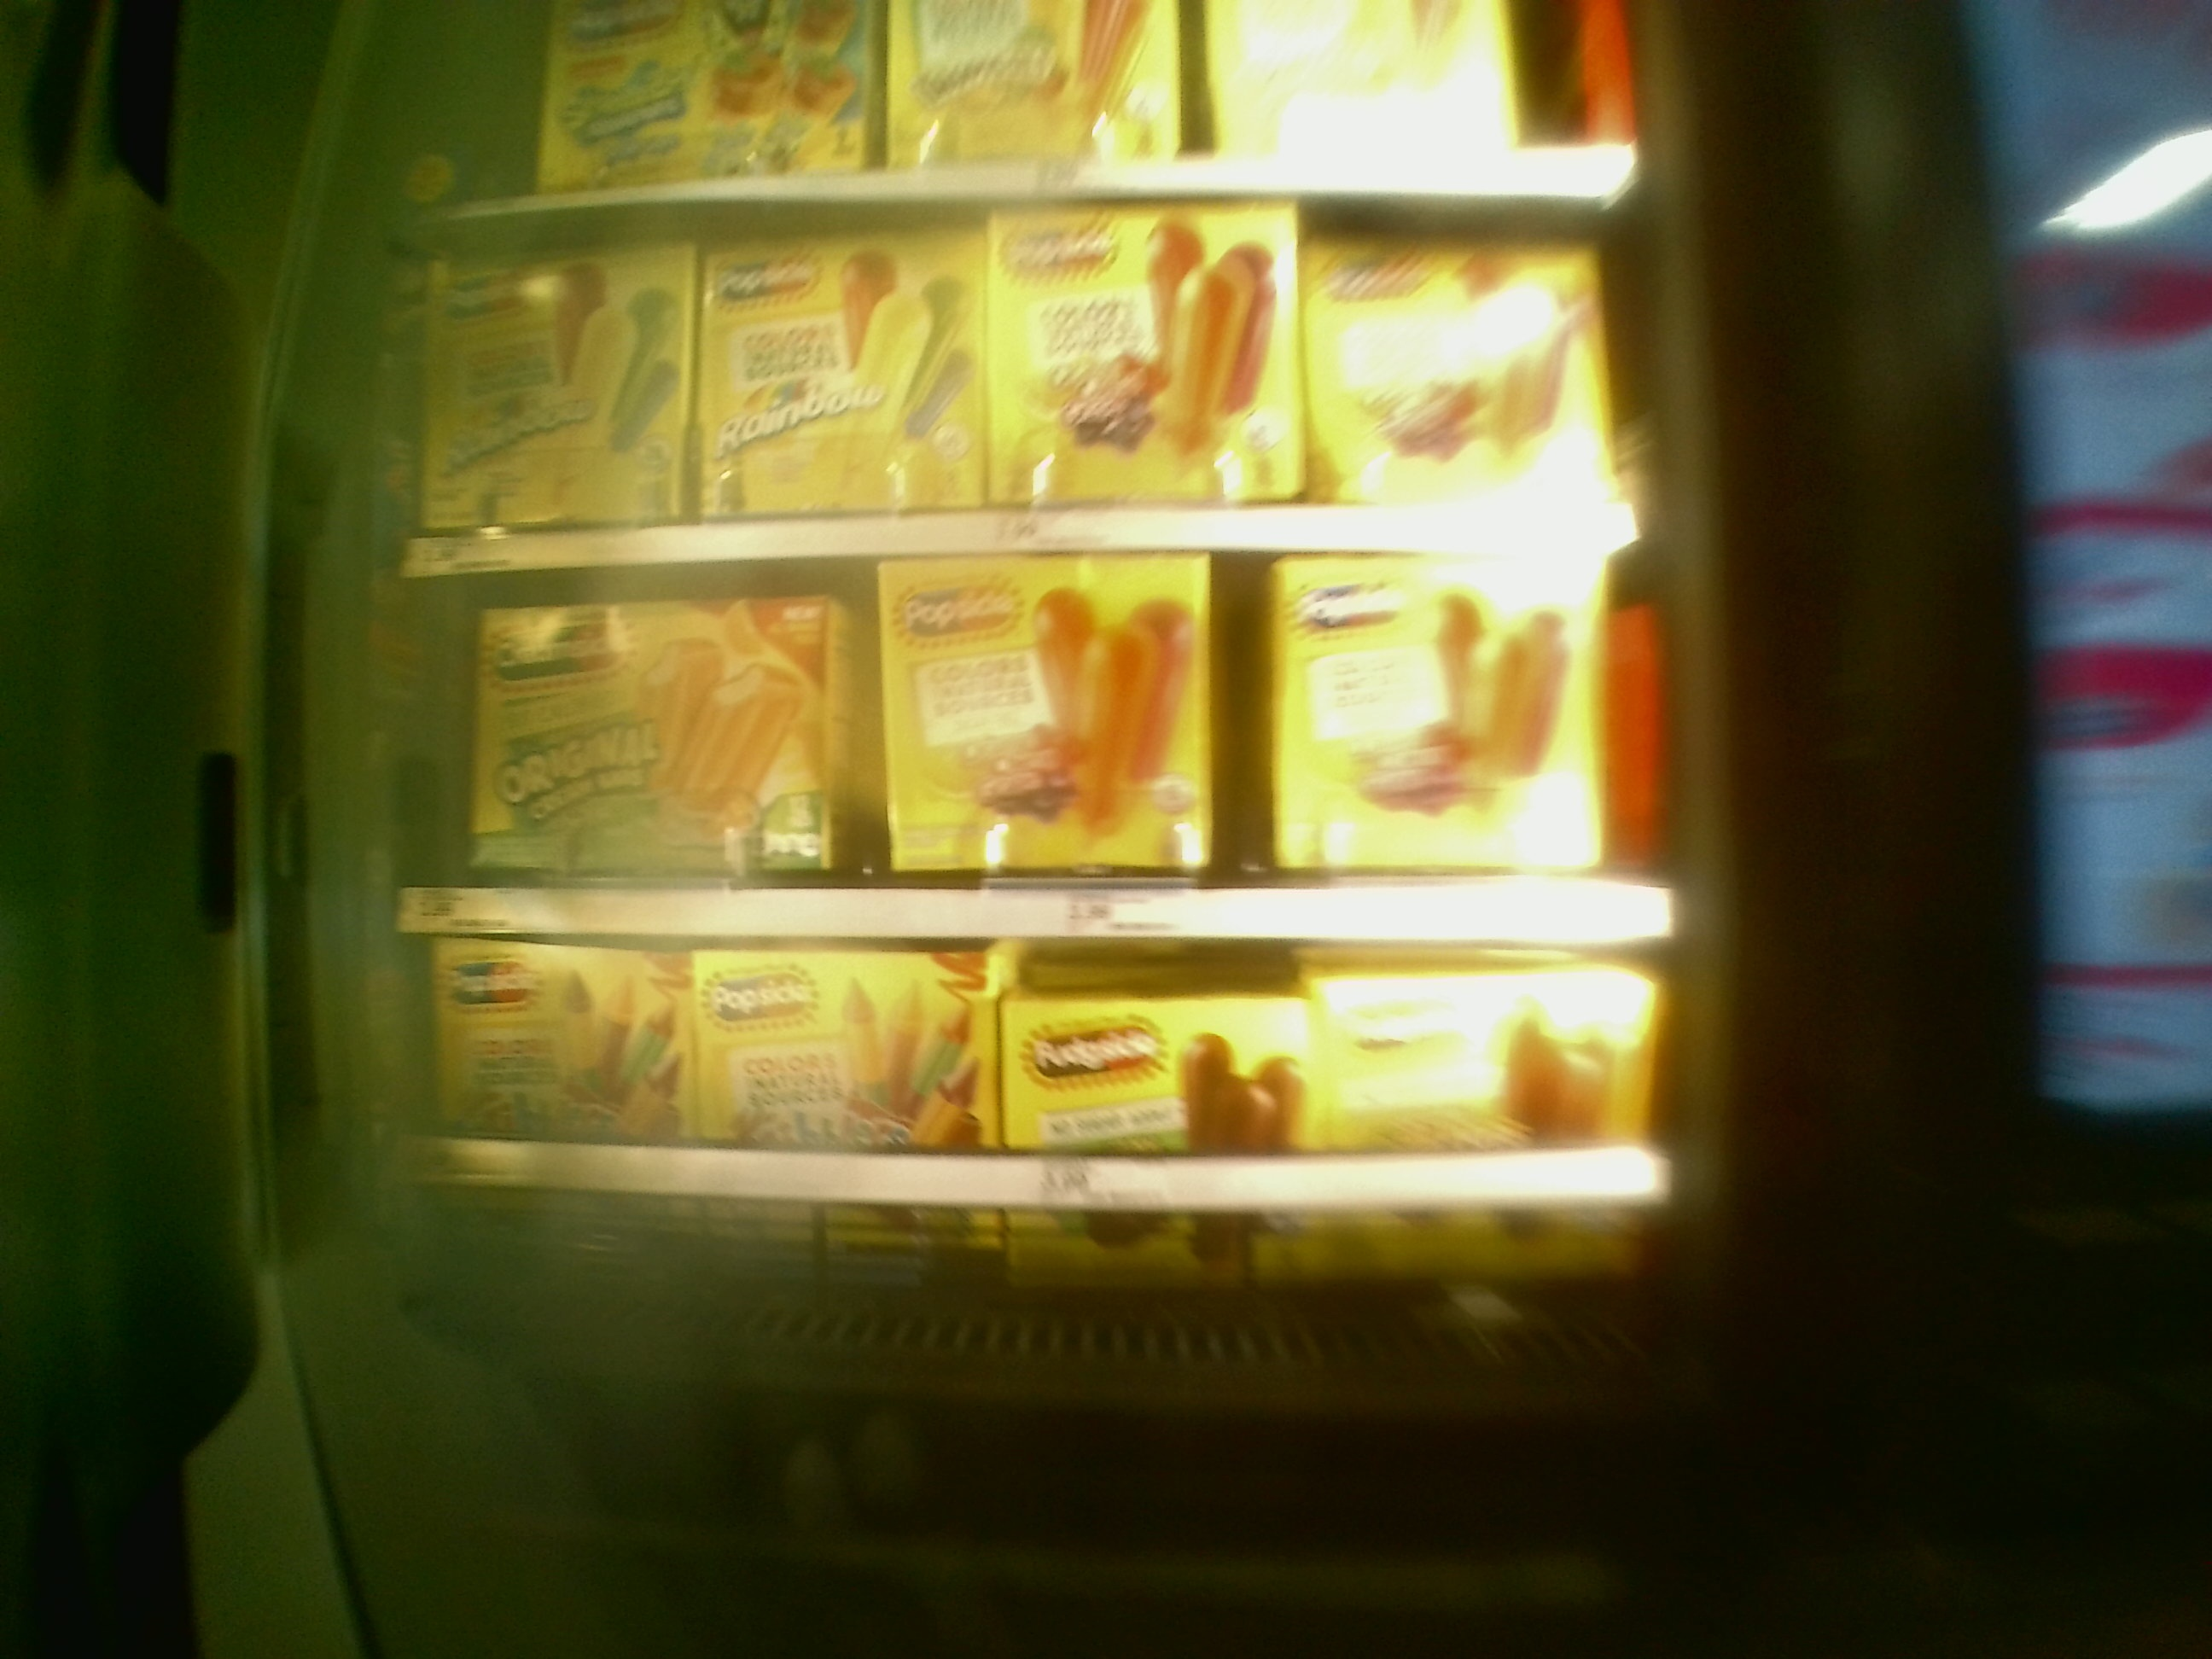frozen-food-shelf: (380, 932, 1689, 1220)
